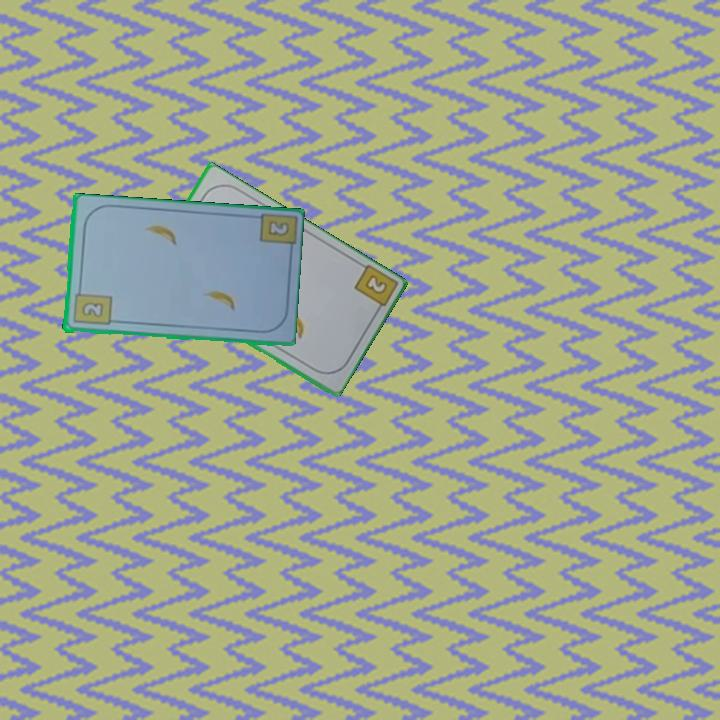2b: (70, 284, 113, 328), (361, 271, 390, 297), (264, 217, 292, 239)
